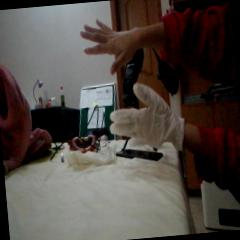gloved: (107, 78, 186, 154)
not-gloved: (78, 14, 150, 78)
